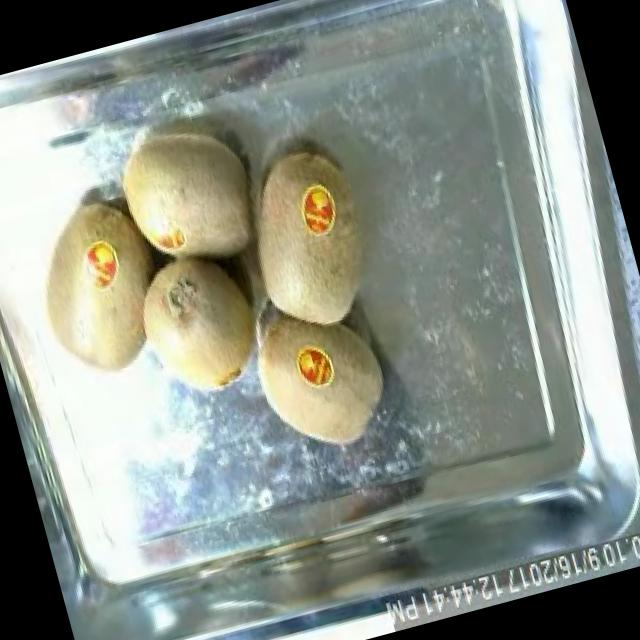Fruit: (218, 130, 390, 350), (97, 96, 286, 294), (2, 183, 170, 402), (118, 232, 280, 414), (250, 318, 407, 469)
